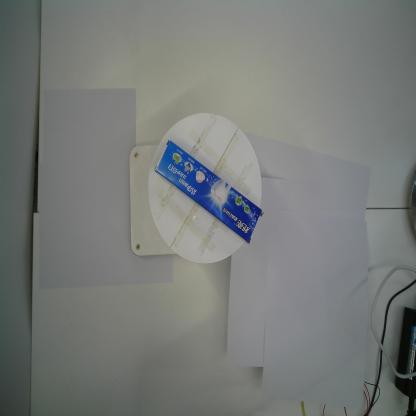Personal Hygiene: (152, 135, 264, 248)
